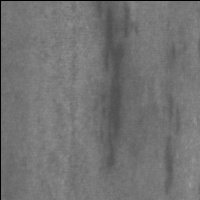inclusion: (96, 1, 136, 172), (156, 132, 180, 197), (162, 89, 185, 137)
